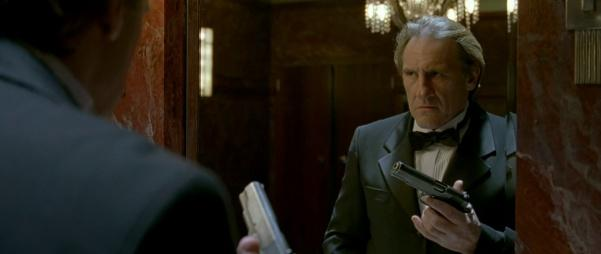Gun: (391, 161, 475, 220), (239, 183, 293, 254)
